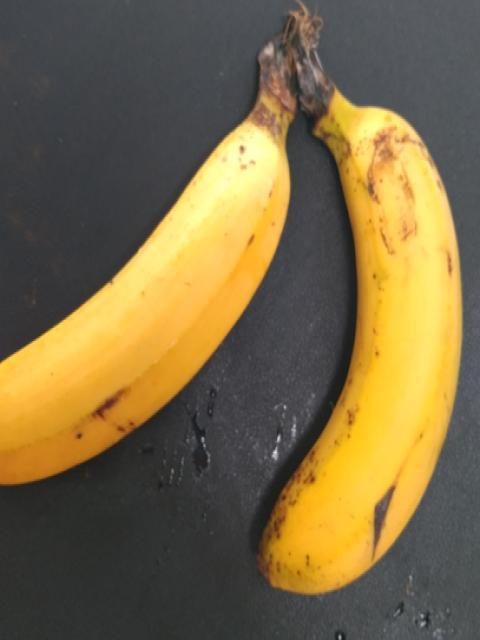freshripe: (5, 107, 283, 491)
ripe: (250, 74, 479, 624)
